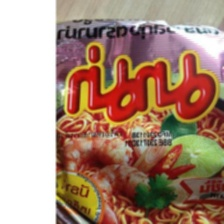snack: (56, 10, 224, 224)
